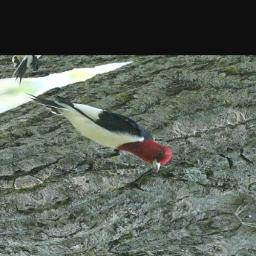Woodpecker: (12, 67, 193, 194)
